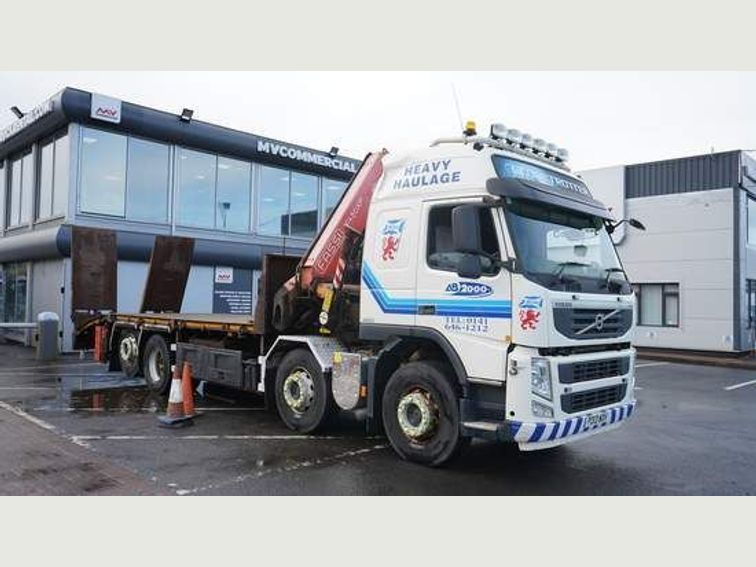Semi: (72, 121, 645, 467)
